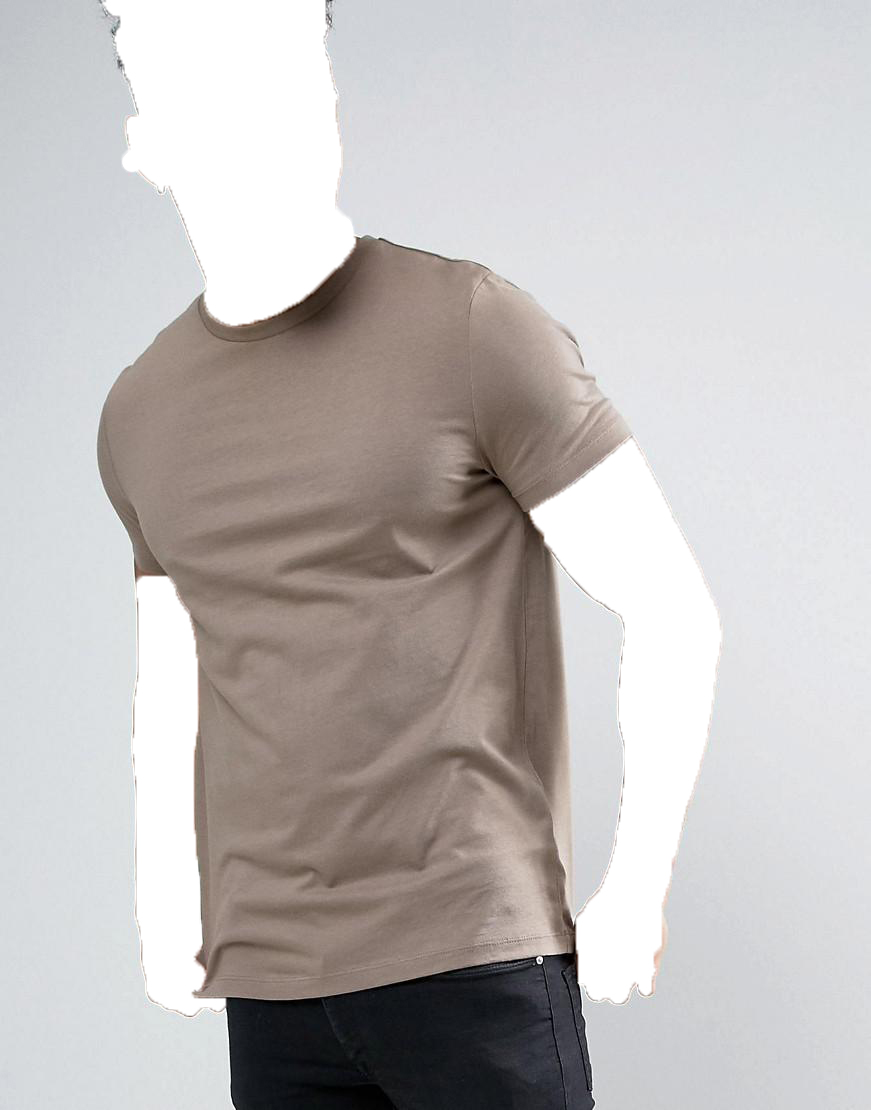teeshirt: (88, 242, 676, 1008)
